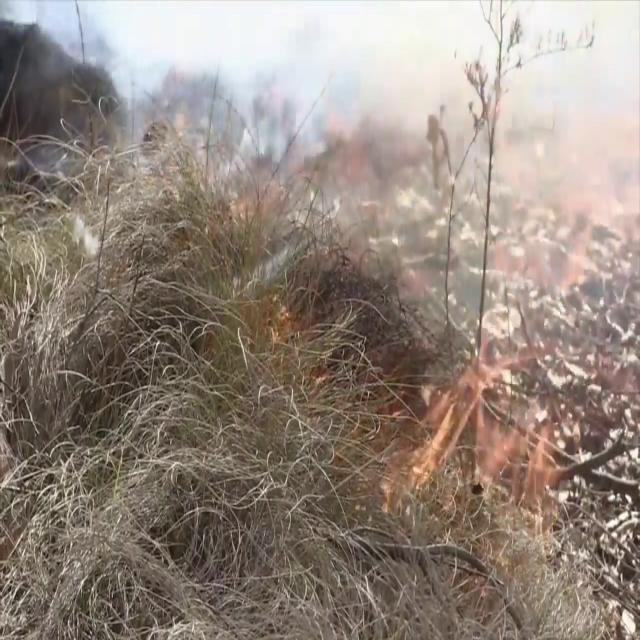Smoke: (29, 0, 640, 288)
